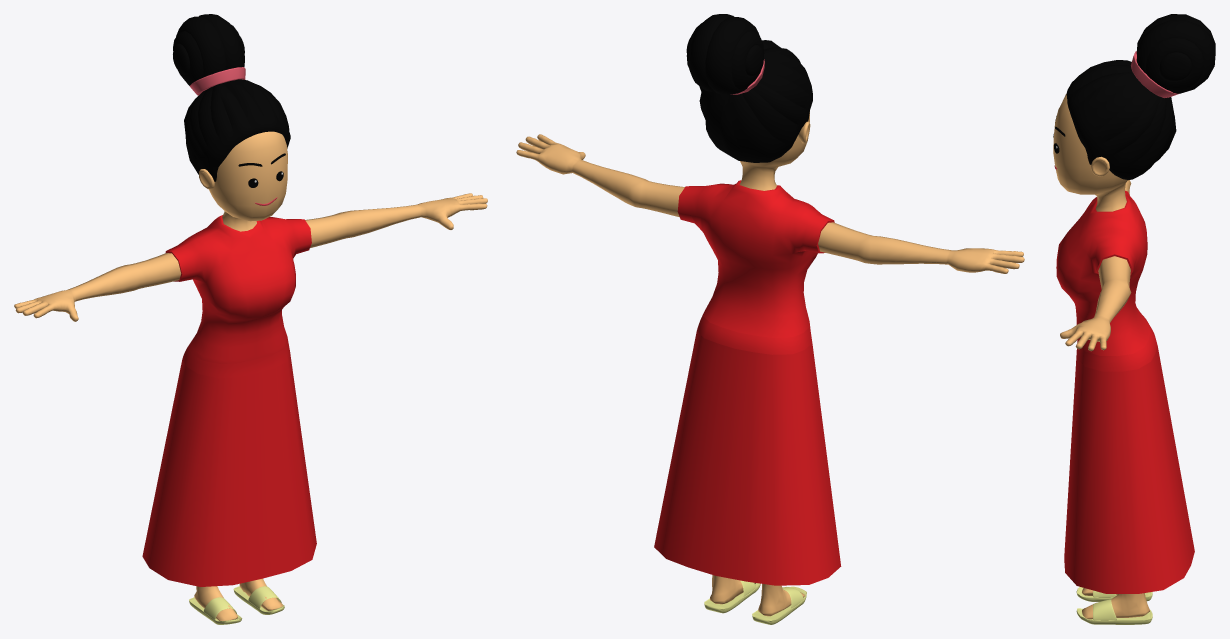
Rendered from ibuk update pakek bone.fbx.
3 renders of one model, left to right at view 1: azimuth 30°, elevation 25°; view 2: azimuth 150°, elevation 25°; view 3: azimuth 270°, elevation 25°, orthographic. The views are drawn at different scales.
Visible parts, largest first — view 1: Daster, Body, Rambut, Sandal kanan, Sandal kiri; view 2: Daster, Rambut, Body, Sandal kiri; view 3: Daster, Rambut, Body, Sandal kanan, Sandal kiri.
Part boxes in pixels (box(x1,y1,x2,y2)): Daster: box(142, 215, 316, 586); Body: box(14, 131, 487, 620); Rambut: box(173, 14, 290, 181); Sandal kanan: box(233, 586, 284, 614); Sandal kiri: box(189, 597, 242, 624); Daster: box(654, 180, 841, 585); Rambut: box(686, 14, 812, 162); Body: box(516, 112, 1024, 616); Sandal kiri: box(752, 586, 806, 624); Daster: box(1056, 190, 1194, 593); Rambut: box(1066, 14, 1215, 180); Body: box(1053, 94, 1149, 619); Sandal kanan: box(1076, 599, 1152, 624); Sandal kiri: box(1076, 587, 1152, 601).
Bounding box in the file's own units: 153 × 179 × 44.61.
